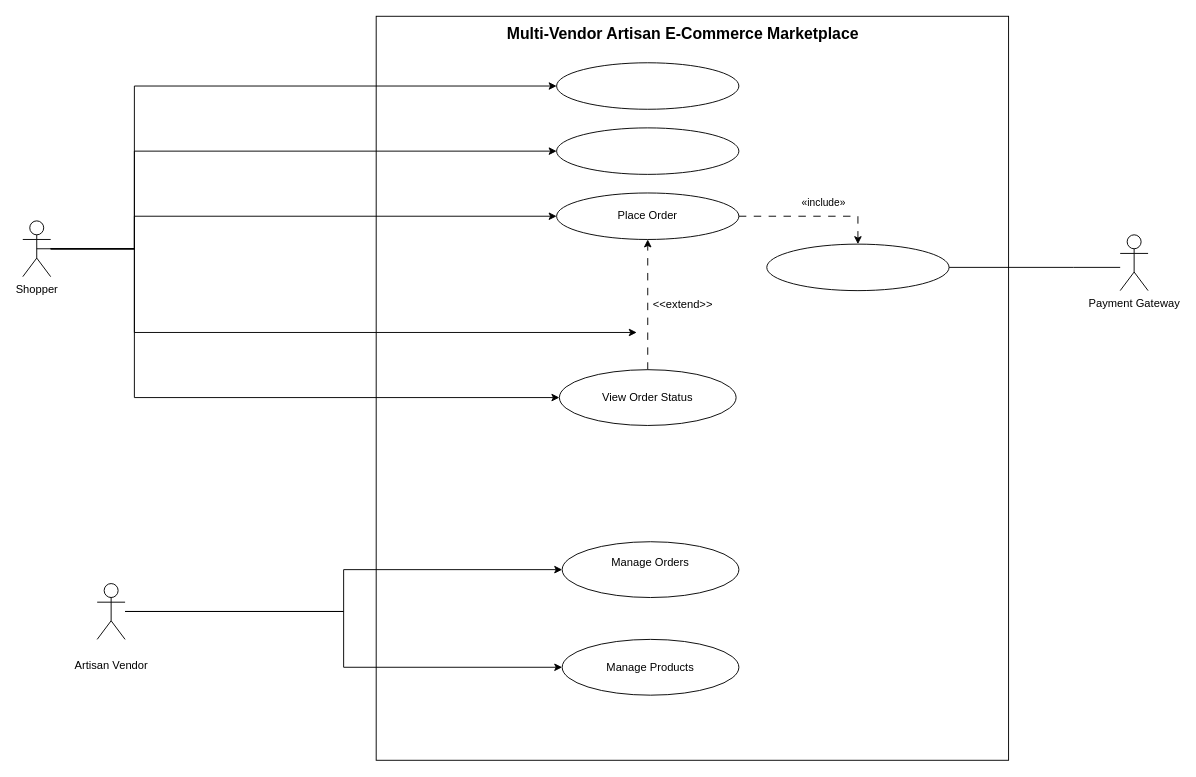
Some shapes in this 1196 by 777 pixel diagram are drawn without their labels. The shapes that lost their labels are listed below. From the top down, each one's centre as x and y in pixels, then its label:
point 647,85: Browse/Search Products
point 647,150: Add Product to Cart
point 857,267: Make Payment
